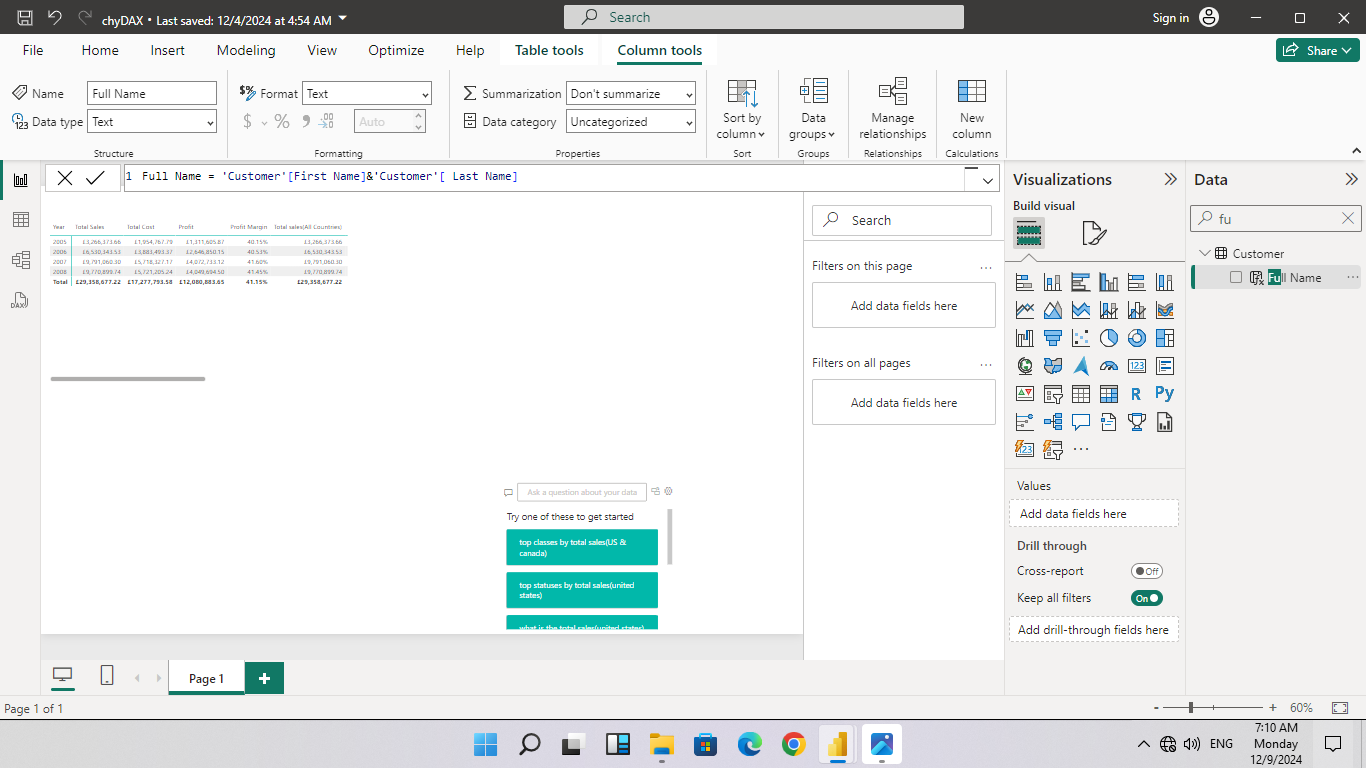

The dashboard page shown, as its layout file describes it:
{"tool":"powerbi","page":{"name":"Page 1","canvas":[1280,720],"ordinal":0},"visuals":[{"type":"pivotTable","fields":{"Values":["Internet Sales.Total Sales","Internet Sales.Total Cost","Internet Sales.Profit","Internet Sales.Profit Margin","Internet Sales.Total sales(All Countries)","Internet Sales.Total sales(Canada)","Internet Sales.Total sales(united States)","Internet Sales.Total sales(US & Canada)","Internet Sales.YTD Sales","Internet Sales.Fiscal YTD Sales","Internet Sales.YTD Sales(Weekdays)","Internet Sales.Prior Year sales"],"Rows":["Date.Year"]},"box":[10.3,20,510.3,280],"z":0}]}

Visuals, with their boxes on the page's 1280x720 design canvas (x1, y1, x2, y2). These are canvas units, not pixel positions in the 1366x768 screenshot, which may show the page scaled, cropped or inside an application window:
pivotTable - Internet Sales.Total Sales x Internet Sales.Total Cost: (left=10, top=20, right=521, bottom=300)
